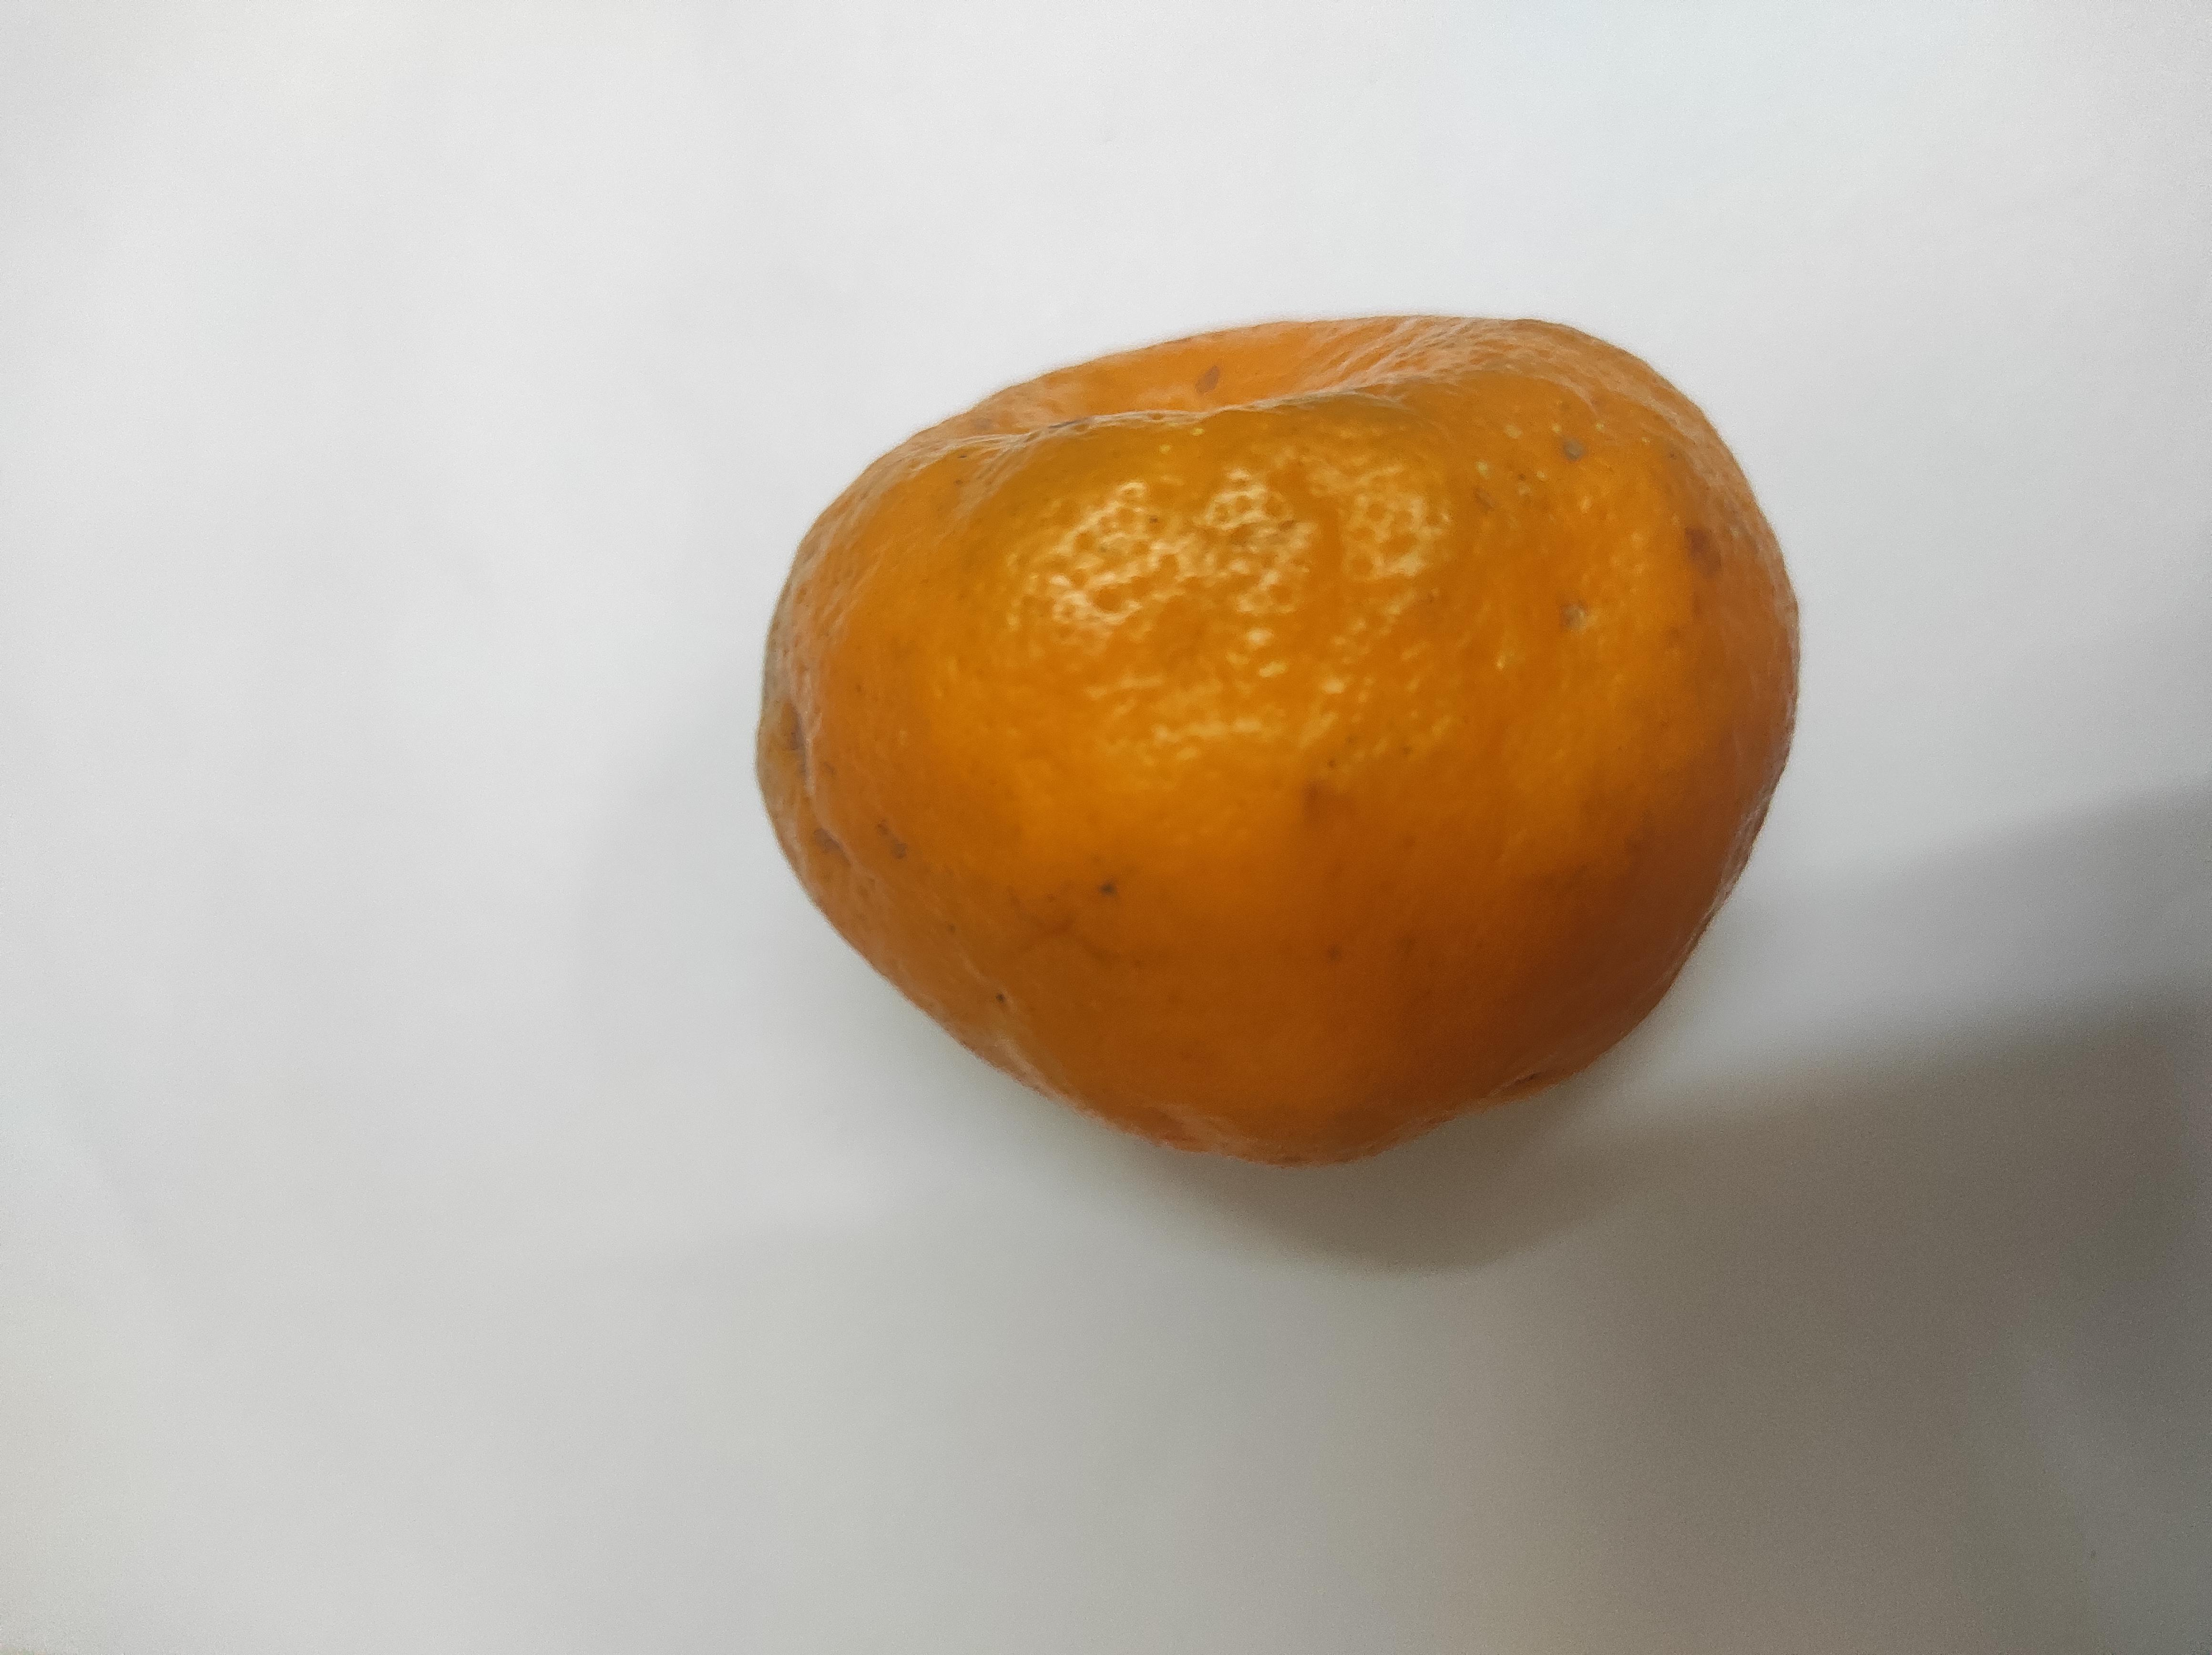Ripe: (682, 577, 1803, 1353)
